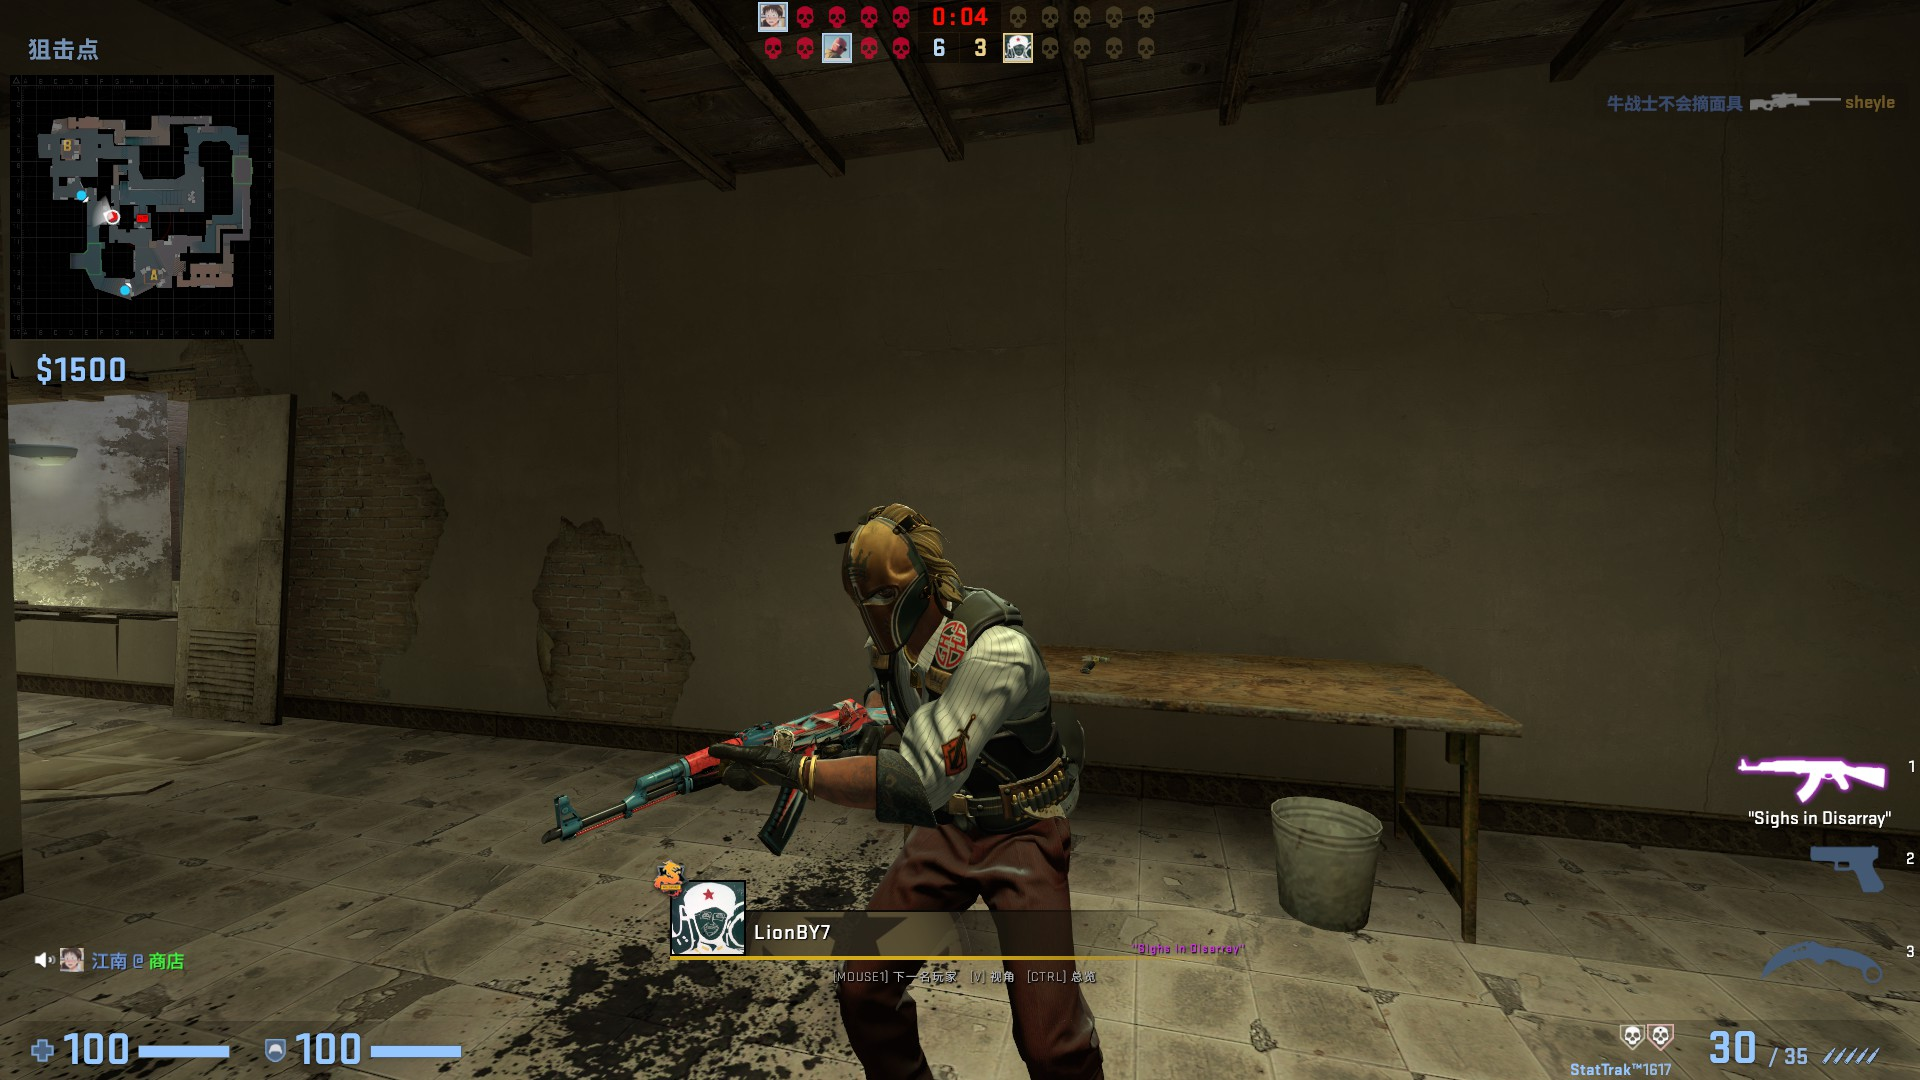head: (831, 501, 960, 653)
